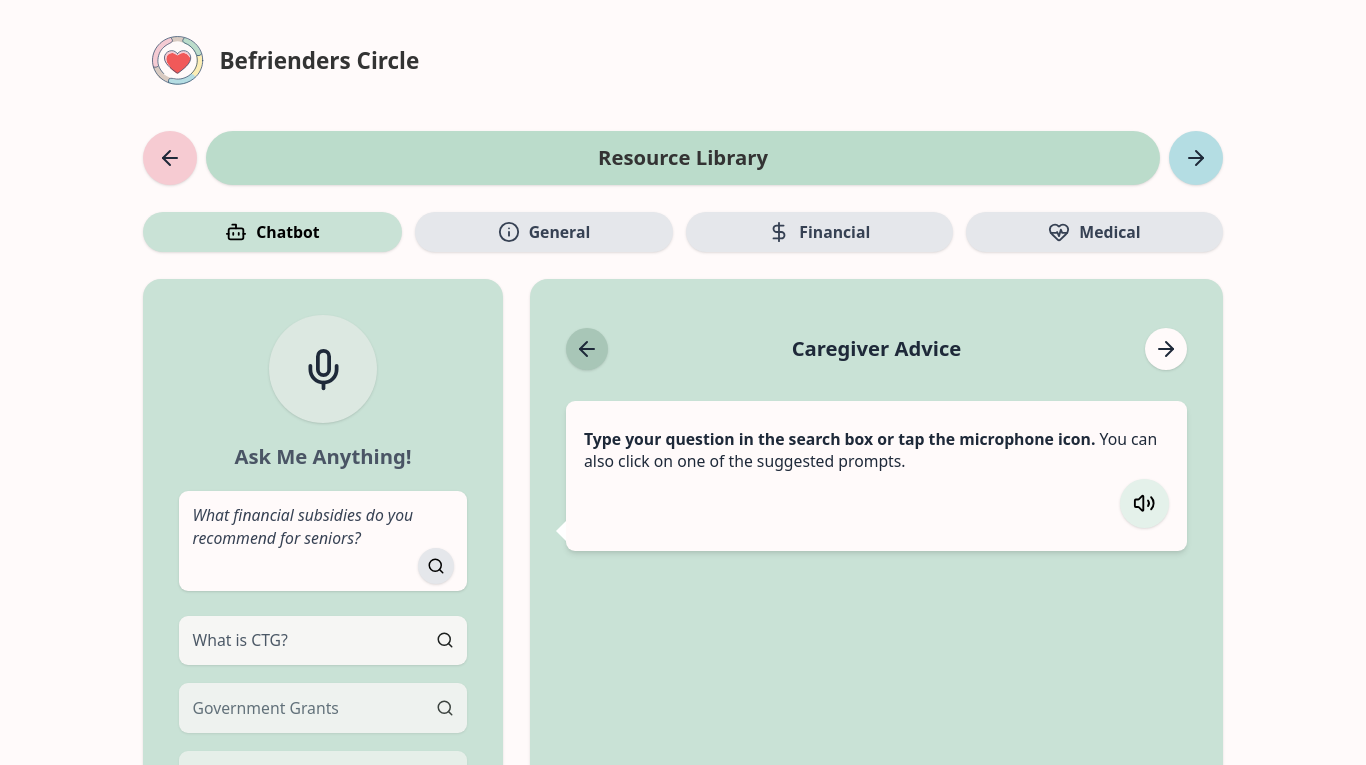
Test case: <ResourceCarousel /> on Resources page › shows progress bar when resources are available
Click on General category to show resources
Click the button "General" at (544, 232), box [415,212,672,252]
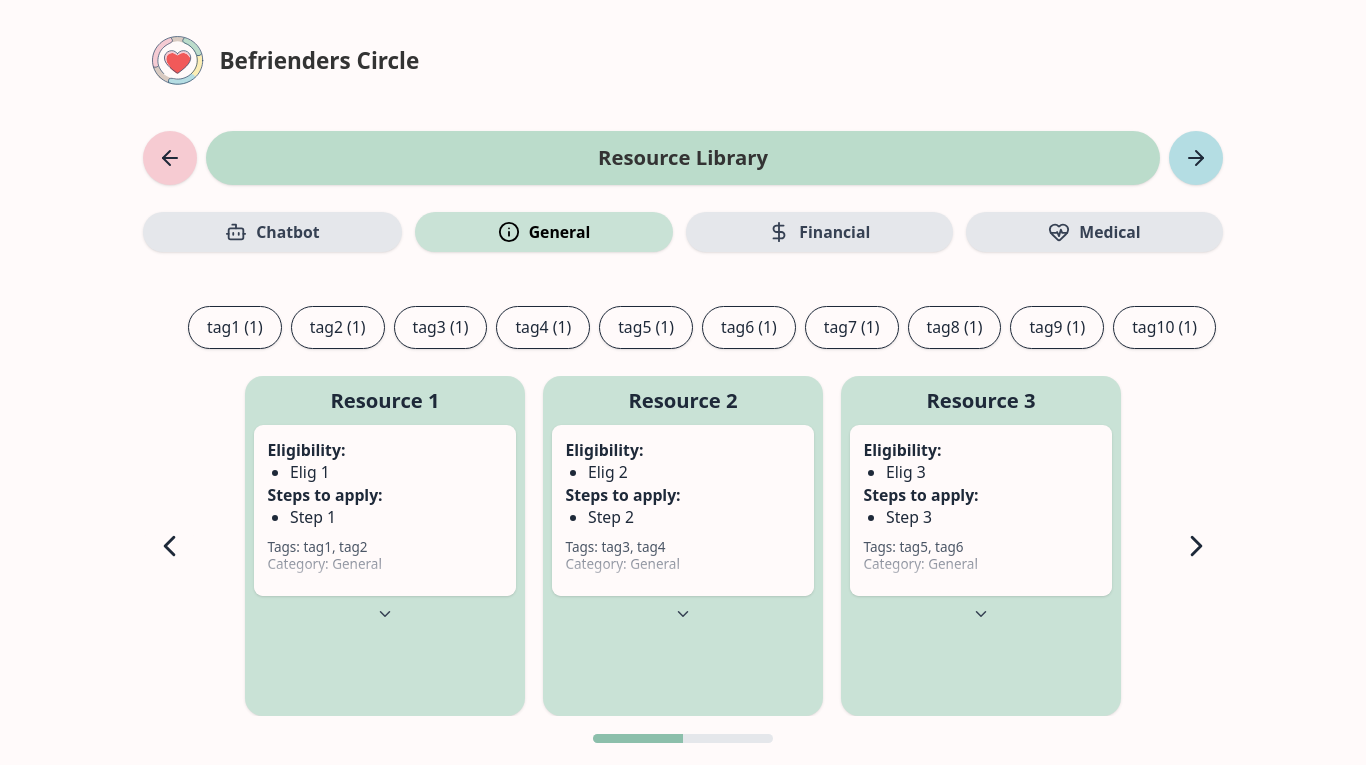
Expected: the progress indicator is shown, [593,734,683,742]
